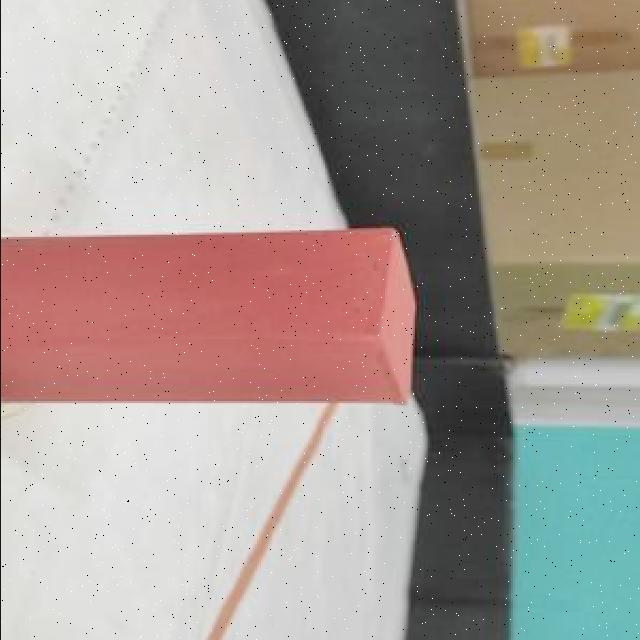redbox: (0, 230, 421, 405)
